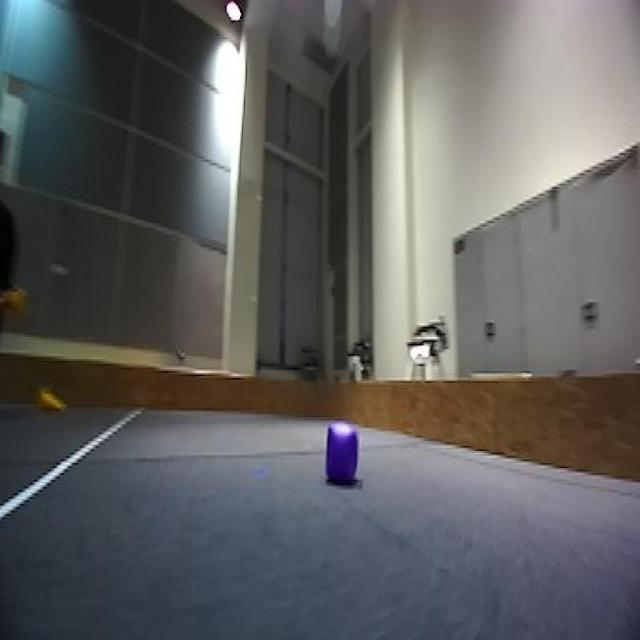frc_cube: (321, 421, 362, 488)
